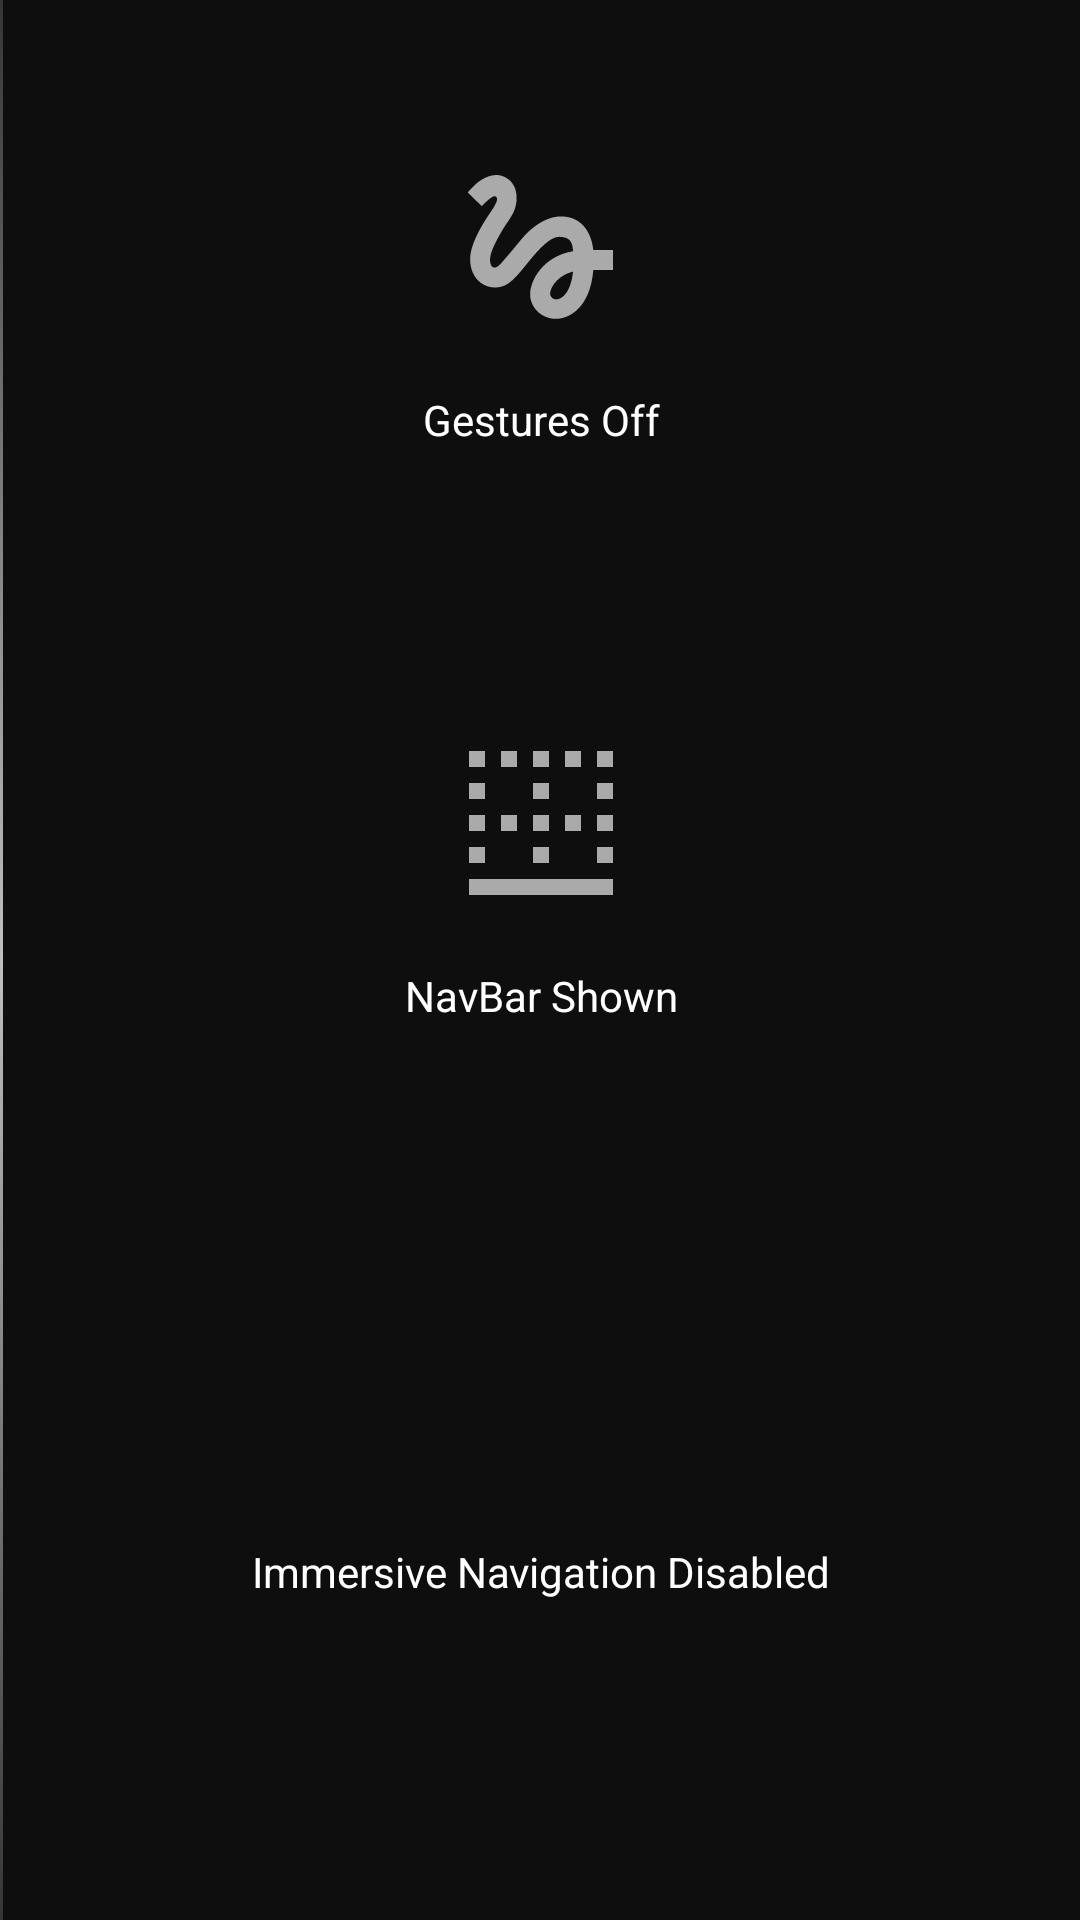

Where to tap for icons on this 1080 x 1920 app screen, as point (x, y):
border bottom: point (541, 823)
